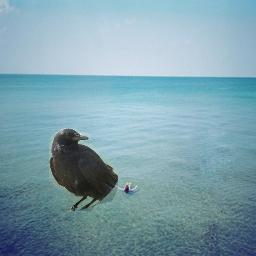Crow: (49, 128, 118, 211)
